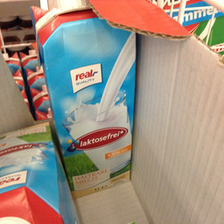milk: (33, 1, 146, 197), (1, 119, 81, 224)
